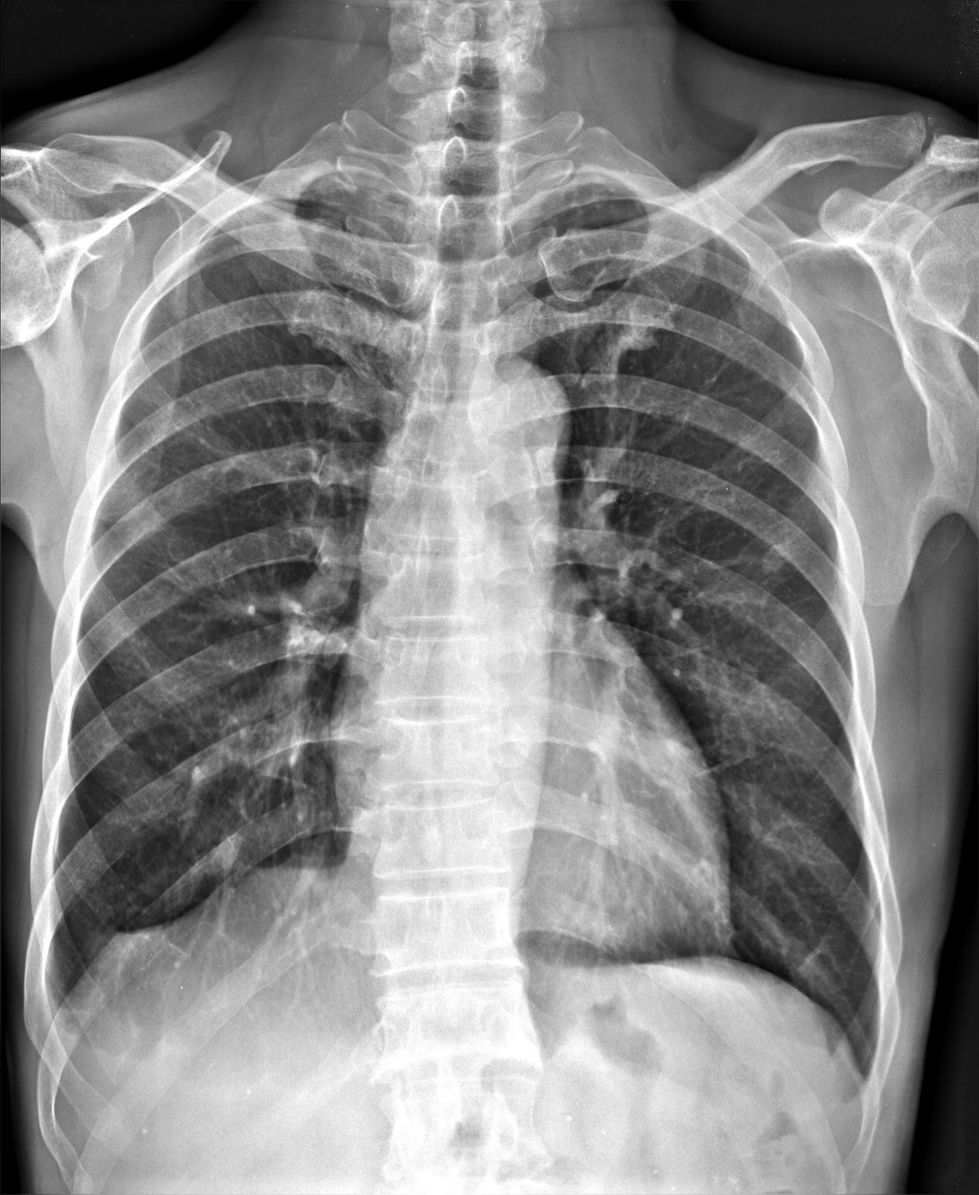Pleural thickening: (22, 972, 90, 1085), (835, 1040, 894, 1113)
